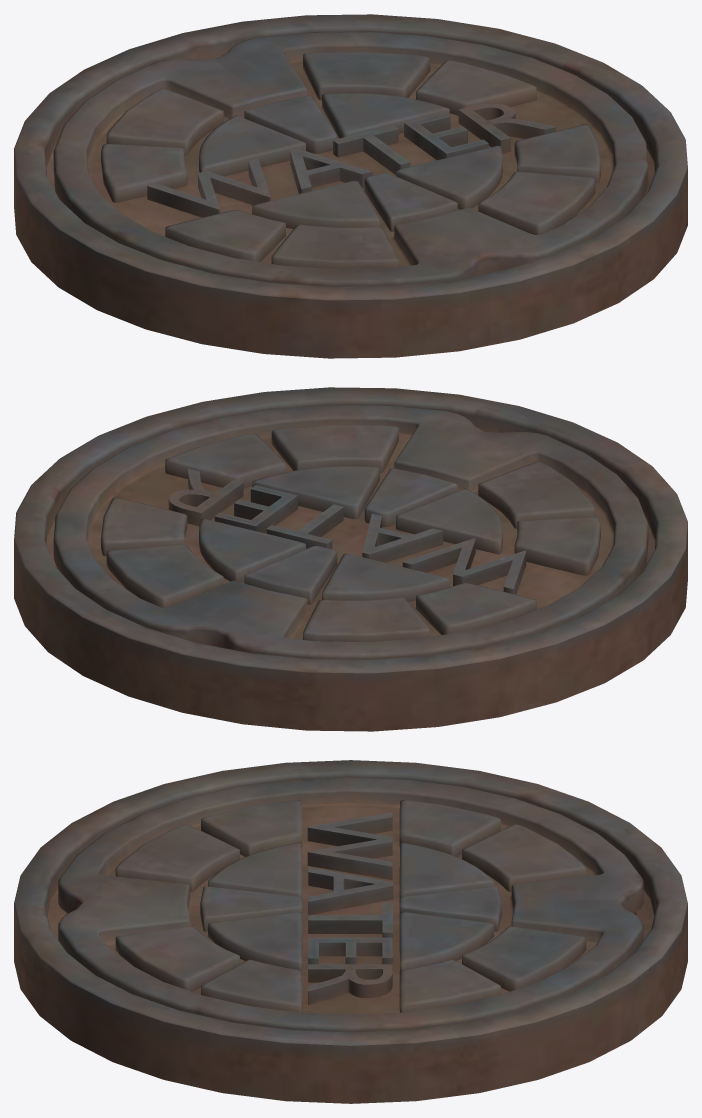
File: water_manhole_cover.glb
3 renders of one model, top to bottom at view 1: azimuth 30°, elevation 25°; view 2: azimuth 150°, elevation 25°; view 3: azimuth 270°, elevation 25°, orthographic.
Visible parts, largest first — view 1: water_manhole_cover, water_manhole_cover_frame; view 2: water_manhole_cover, water_manhole_cover_frame; view 3: water_manhole_cover, water_manhole_cover_frame.
Part boxes in pixels (x1,y1,x2,y2): water_manhole_cover: (53, 32, 648, 286); water_manhole_cover_frame: (14, 14, 687, 358); water_manhole_cover: (53, 405, 648, 659); water_manhole_cover_frame: (14, 387, 687, 731); water_manhole_cover: (58, 777, 643, 1032); water_manhole_cover_frame: (14, 760, 687, 1103).
Bounding box in the file's own units: 0.6908 × 0.0676 × 0.6908.
1 material, 1 textured.
